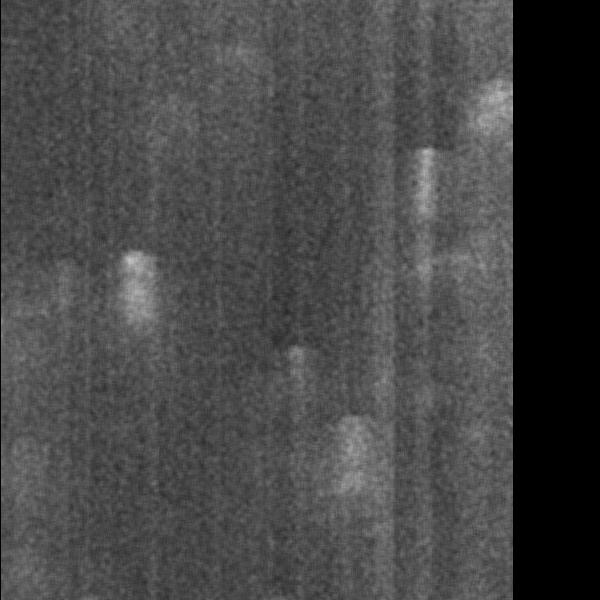spark: (120, 245, 157, 377), (486, 68, 515, 201), (340, 410, 366, 550)
